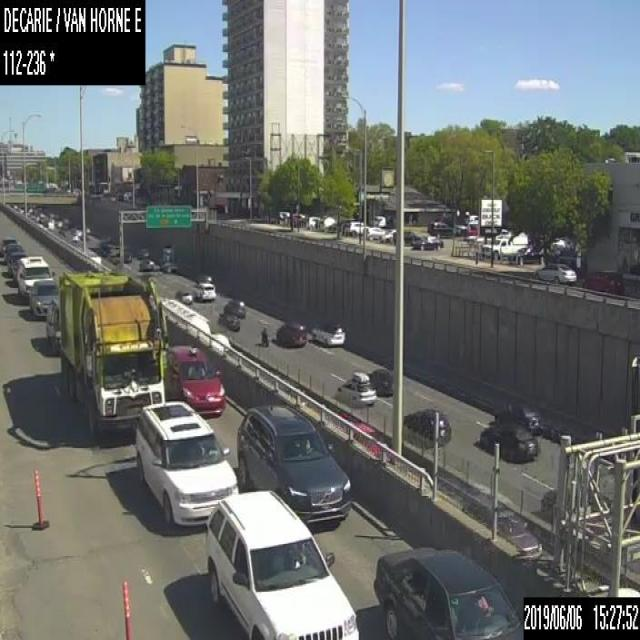construction: (32, 466, 48, 530), (121, 577, 129, 639)
vehicle: (204, 489, 358, 639), (60, 269, 166, 436), (372, 542, 523, 638), (236, 402, 351, 526), (134, 397, 237, 526), (462, 486, 542, 562), (164, 344, 224, 415), (480, 418, 539, 466), (402, 409, 451, 446), (493, 398, 541, 435), (16, 254, 53, 296), (482, 230, 528, 262), (334, 370, 375, 405), (580, 266, 625, 294), (29, 279, 60, 317), (534, 260, 576, 285), (310, 320, 345, 347), (46, 296, 62, 353), (274, 318, 306, 346), (366, 368, 394, 396), (508, 246, 539, 265), (158, 244, 176, 272), (6, 251, 25, 276), (223, 298, 246, 318), (192, 281, 215, 301), (217, 310, 239, 330), (412, 235, 443, 249), (0, 234, 15, 260), (428, 221, 451, 237), (3, 242, 20, 262), (343, 220, 363, 235), (174, 288, 191, 304), (365, 226, 382, 240), (259, 324, 269, 346), (304, 215, 319, 228), (138, 258, 153, 270), (319, 215, 333, 226), (463, 213, 478, 223), (72, 226, 82, 236)
